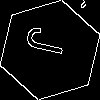J: (25, 25, 76, 60)
